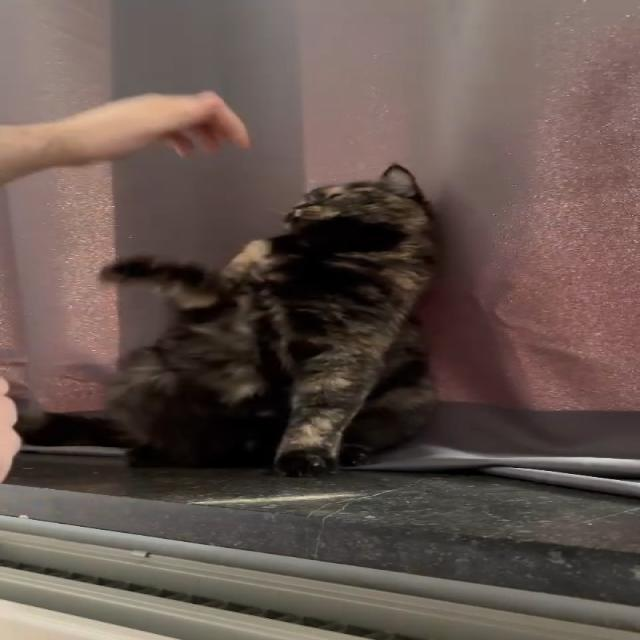authorized: (93, 162, 443, 477)
